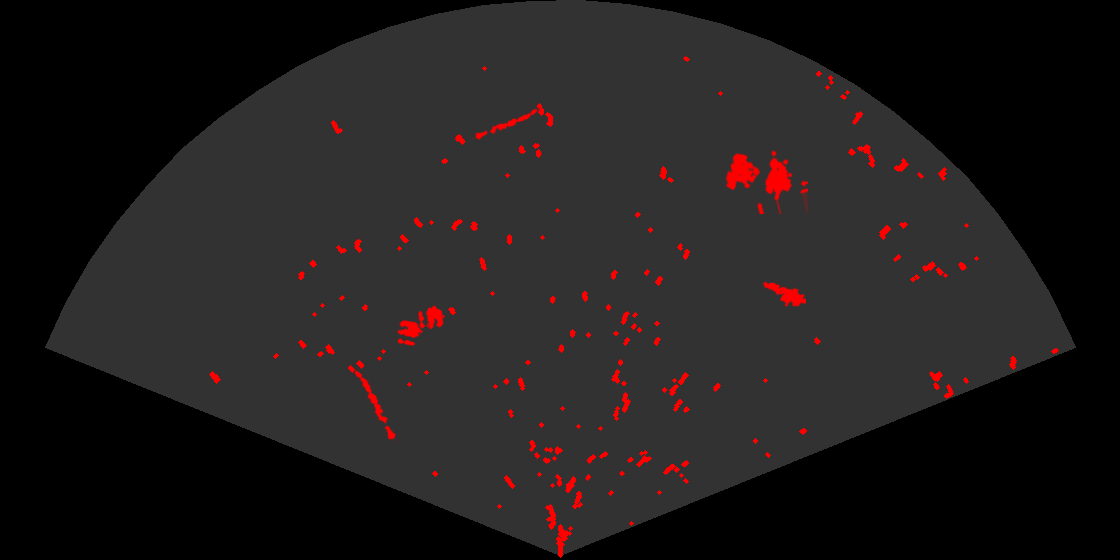ball: (417, 304, 445, 331), (395, 319, 422, 347)
cage: (724, 149, 808, 214)
chain: (353, 369, 398, 443), (472, 107, 541, 142)
frogman: (762, 280, 806, 309)
